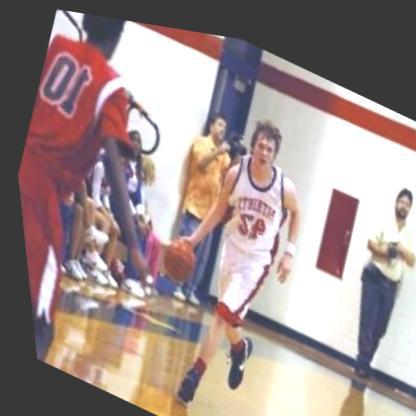basketball: (144, 220, 205, 290)
